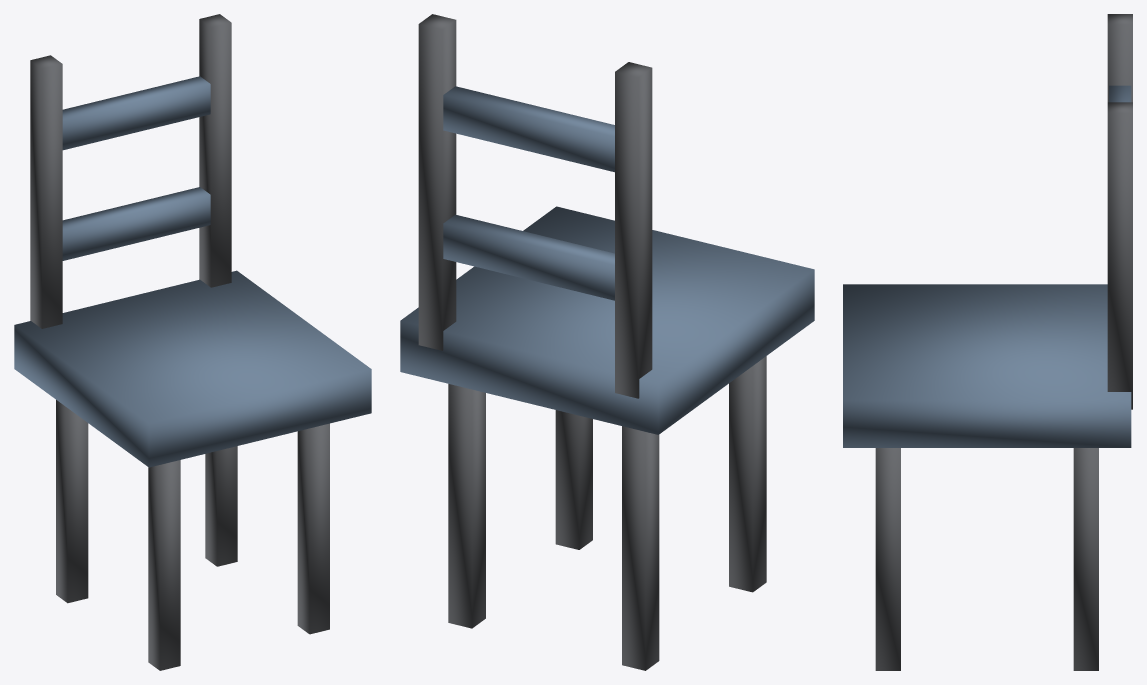
File: courtroom_spectator_chair__tall.glb
The picture shows the model from 3 angles, left to right: view 1: azimuth 30°, elevation 25°; view 2: azimuth 150°, elevation 25°; view 3: azimuth 270°, elevation 25°; orthographic projection. The views are drawn at different scales.
Parts seen in each view (by area): view 1: world; view 2: world; view 3: world.
Boxes of the visible parts, x1,y1,x2,y2 form: world: (14,14,371,670); world: (400,14,814,670); world: (843,14,1132,670).
Bounding box in the file's own units: 0.488 × 1.1 × 0.5136.
